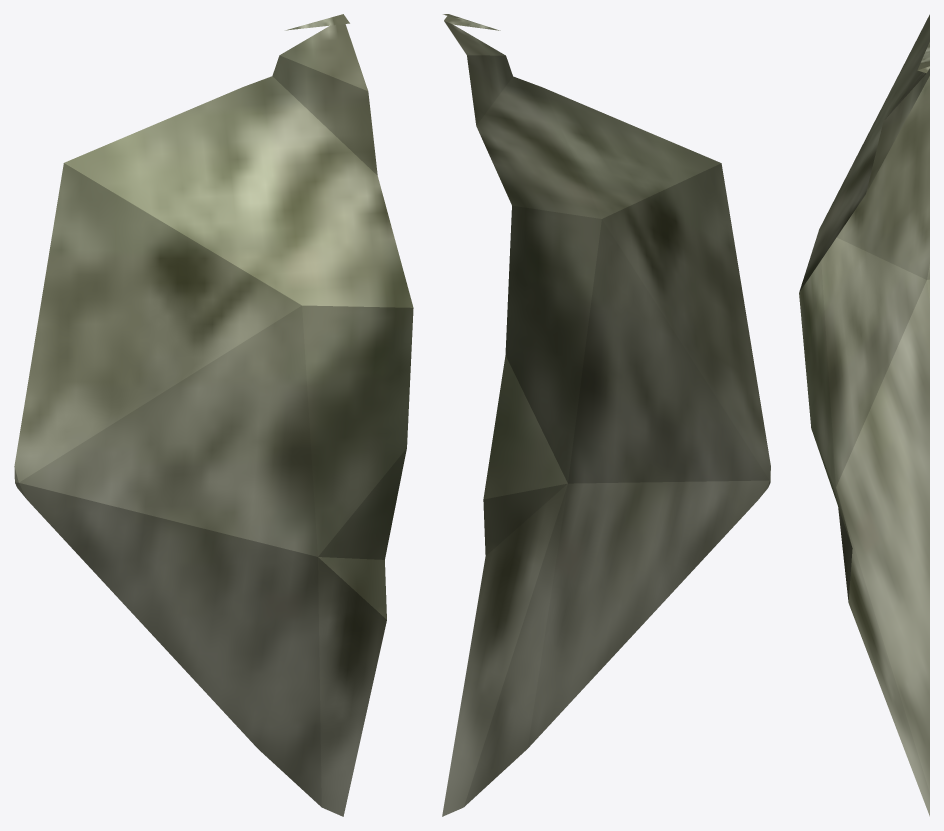
3 views of the same model, side by side, from view 1: azimuth 30°, elevation 25°; view 2: azimuth 150°, elevation 25°; view 3: azimuth 270°, elevation 25° (orthographic). The views are drawn at different scales.
Size of the model in its own units: 0.4816 by 1.12 by 0.1775.
1 material, 1 textured.
